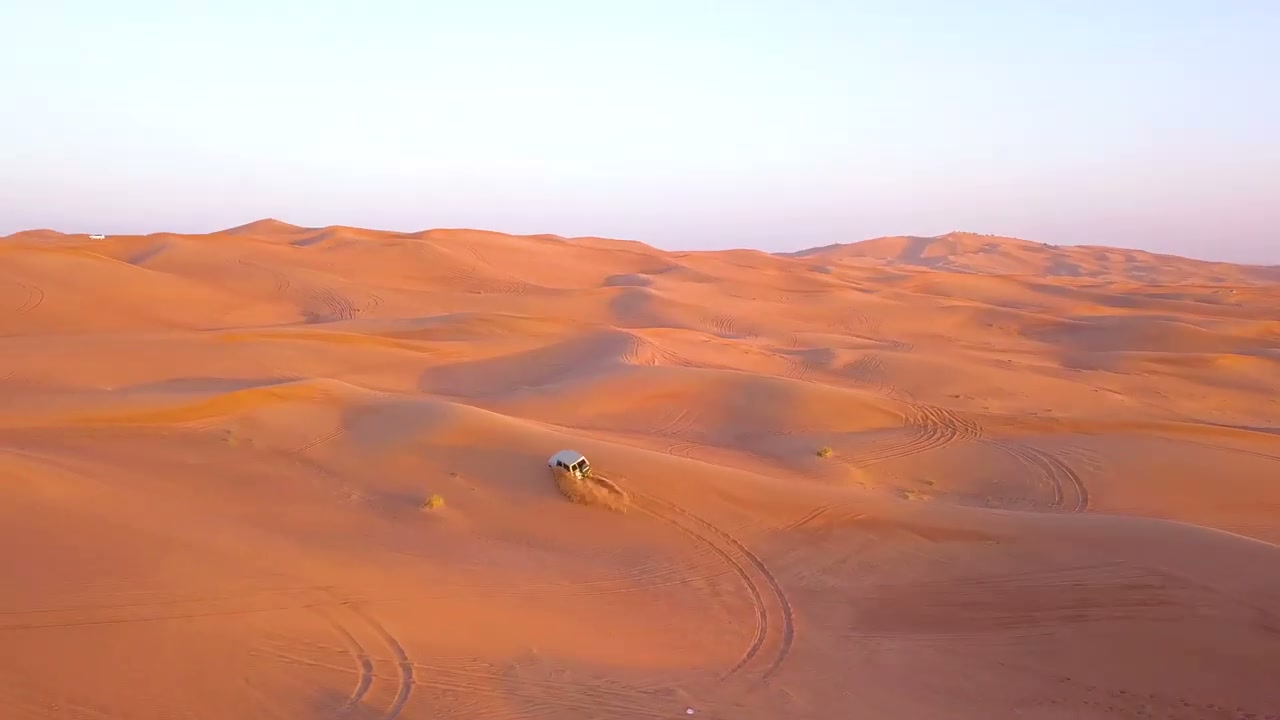vehicle_track: (629, 489, 794, 680), (840, 403, 982, 465), (341, 601, 414, 719), (983, 440, 1089, 511), (238, 259, 289, 293), (290, 426, 344, 454), (843, 353, 883, 387), (652, 408, 696, 436), (14, 283, 44, 314), (665, 442, 703, 458)
